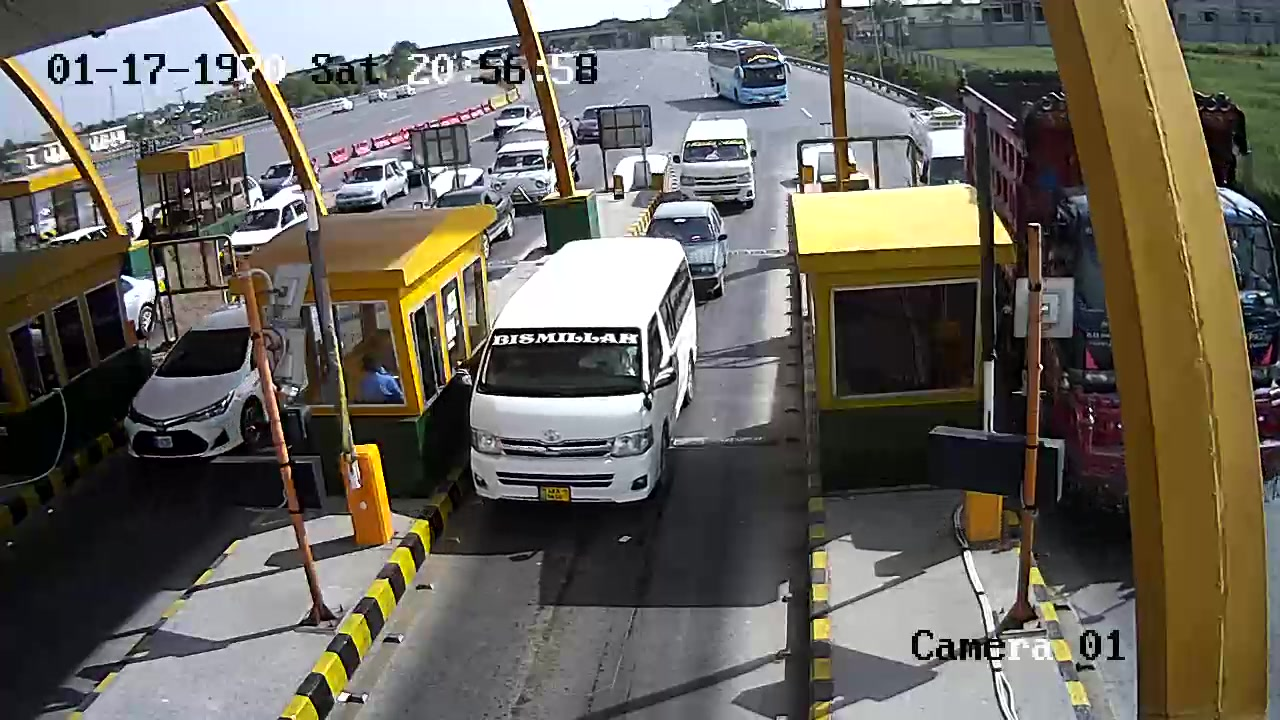F2: (457, 236, 703, 520)
